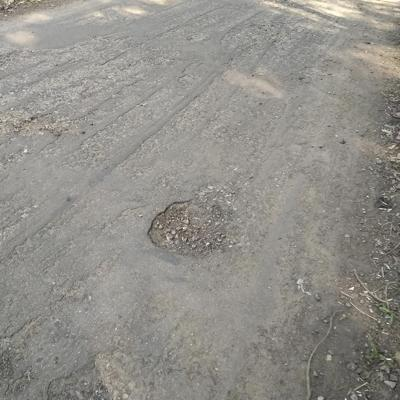Pothole: (139, 171, 246, 274)
